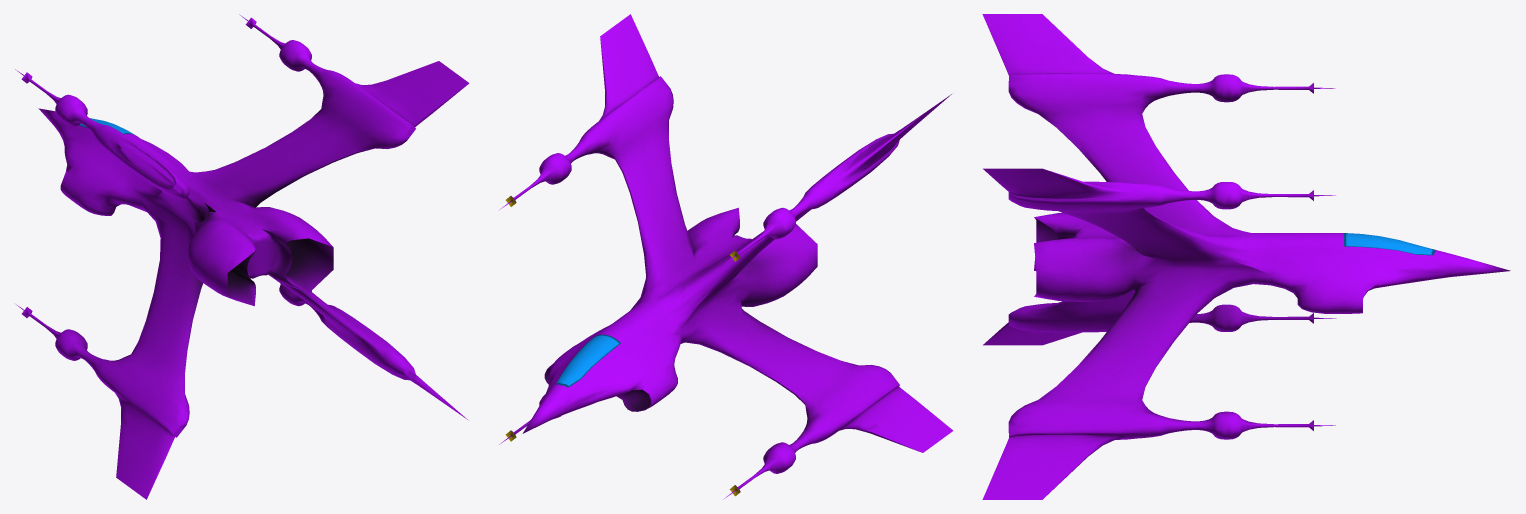
The model's file is ship.fbx.
3 renders of one model, left to right at view 1: azimuth 30°, elevation 25°; view 2: azimuth 150°, elevation 25°; view 3: azimuth 270°, elevation 25°, orthographic.
Visible parts, largest first — view 1: mesh0; view 2: mesh0; view 3: mesh0.
Part boxes in pixels (x1,y1,x2,y2): mesh0: (15,14,469,499); mesh0: (499,14,953,498); mesh0: (982,14,1510,499).
Bounding box in the file's own units: 14.13 × 14.13 × 20.45.
Materials: 1 (1 with a texture image).
